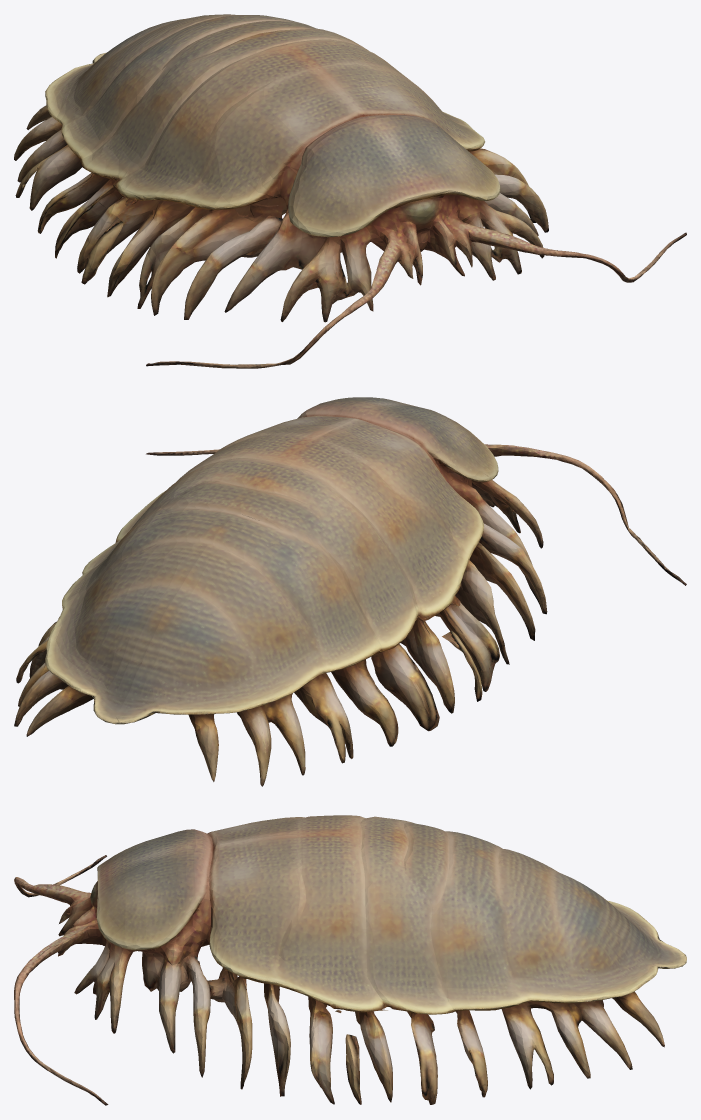
The picture shows the model from 3 angles, top to bottom: view 1: azimuth 30°, elevation 25°; view 2: azimuth 150°, elevation 25°; view 3: azimuth 270°, elevation 25°; orthographic projection. The views are drawn at different scales.
Parts seen in each view (by area): view 1: world; view 2: world; view 3: world.
Part boxes in pixels (left/top/right/bottom): world: left=14, top=14, right=686, bottom=368; world: left=14, top=397, right=686, bottom=786; world: left=14, top=815, right=686, bottom=1105.
Size of the model in its own units: 0.8764 by 0.3044 by 1.
Materials: 1 (1 with a texture image).
